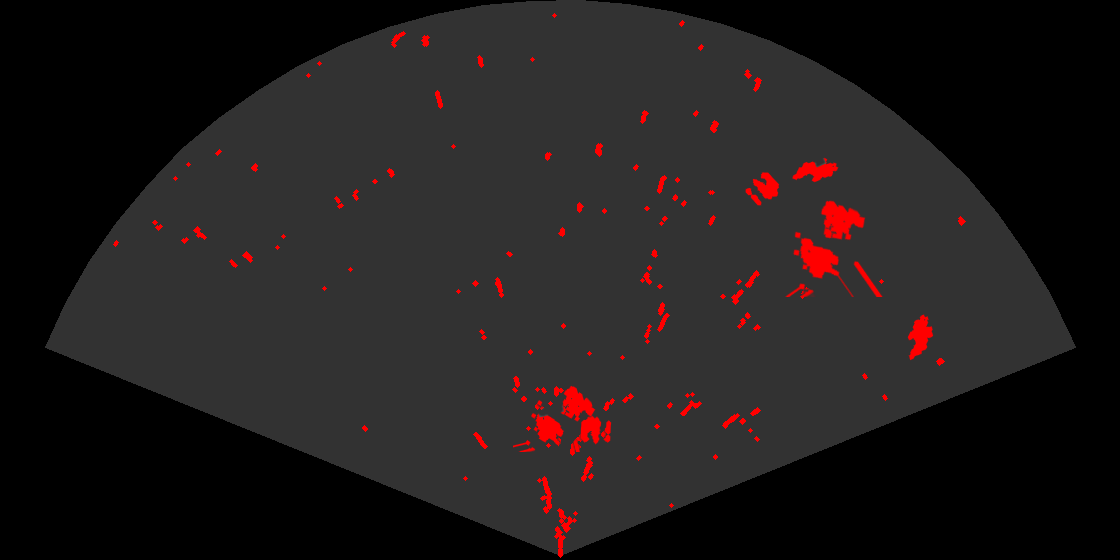AUV: (906, 313, 935, 362), (791, 156, 840, 184)
ball: (744, 171, 781, 207), (579, 414, 613, 446)
cage: (784, 199, 885, 297), (513, 384, 597, 452)
